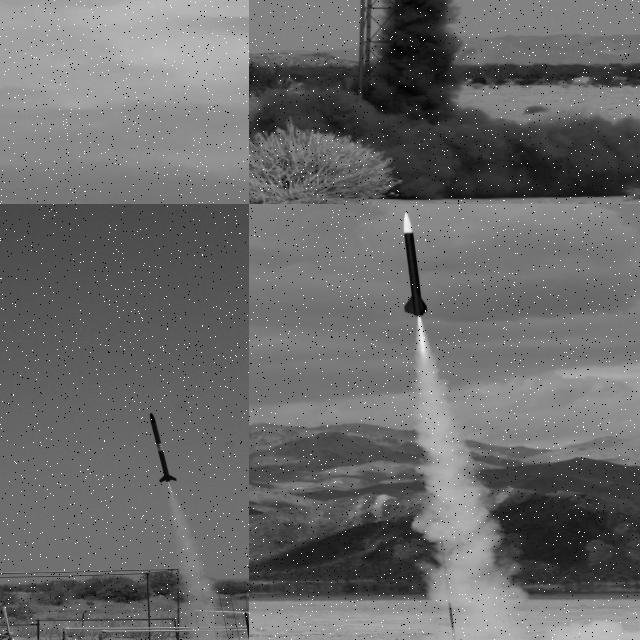Rocket: (402, 212, 428, 317), (150, 412, 178, 483), (2, 606, 14, 636), (244, 611, 249, 640)
